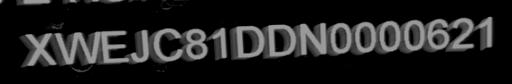letter: (51, 30, 99, 66), (292, 22, 328, 60), (227, 23, 263, 61), (16, 31, 54, 67), (262, 22, 296, 60), (96, 29, 130, 66), (149, 27, 183, 63), (178, 27, 208, 64), (324, 21, 352, 57), (474, 15, 500, 51), (447, 17, 473, 53), (126, 27, 150, 64), (350, 21, 376, 55), (377, 19, 401, 55), (400, 18, 424, 52), (425, 19, 449, 52), (207, 26, 229, 62)
